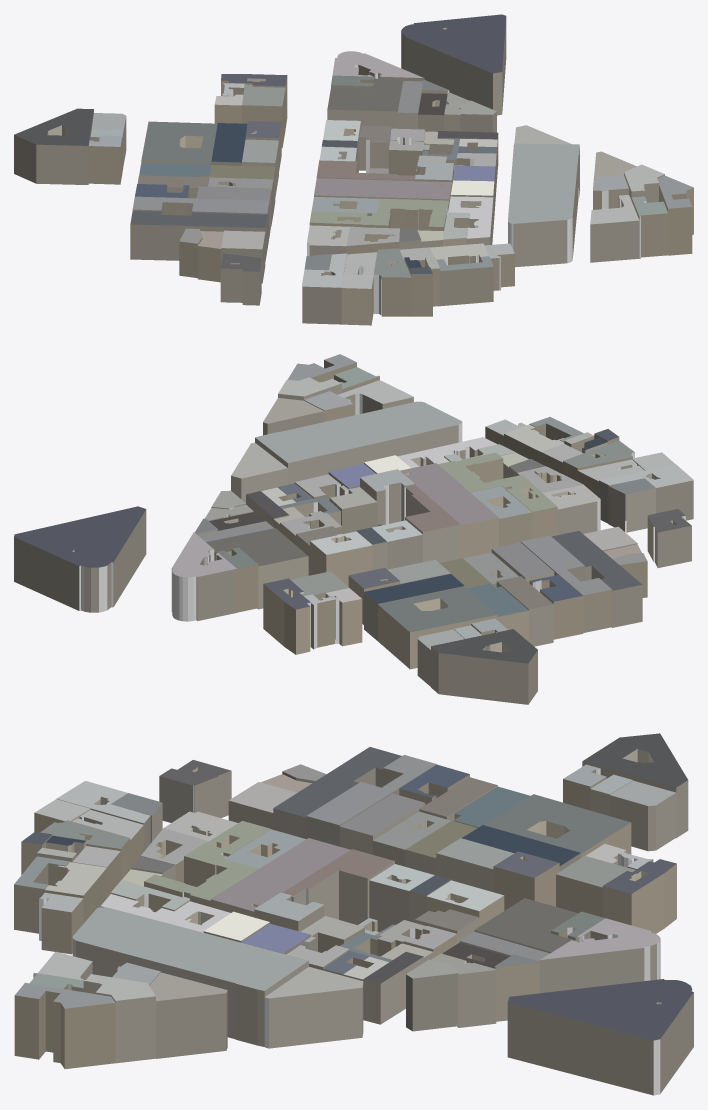
The picture shows the model from 3 angles, top to bottom: view 1: azimuth 30°, elevation 25°; view 2: azimuth 150°, elevation 25°; view 3: azimuth 270°, elevation 25°; orthographic projection. The views are drawn at different scales.
Parts seen in each view (by area): view 1: tuile; view 2: tuile; view 3: tuile.
Part boxes in pixels (x1,y1,x2,y2): tuile: [14, 14, 693, 325]; tuile: [14, 354, 693, 704]; tuile: [14, 733, 693, 1095].
Size of the model in its own units: 296 by 31.31 by 276.
